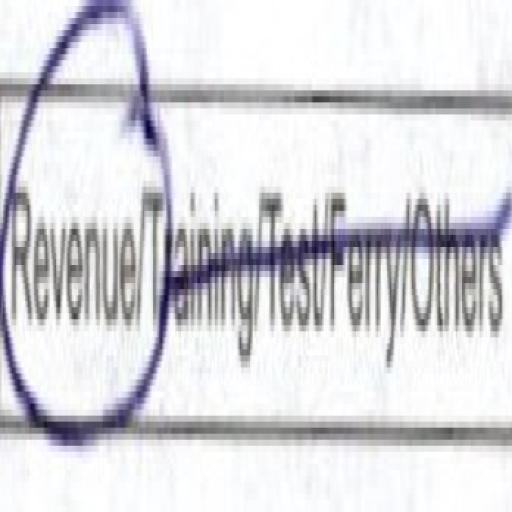check: (0, 2, 147, 511)
